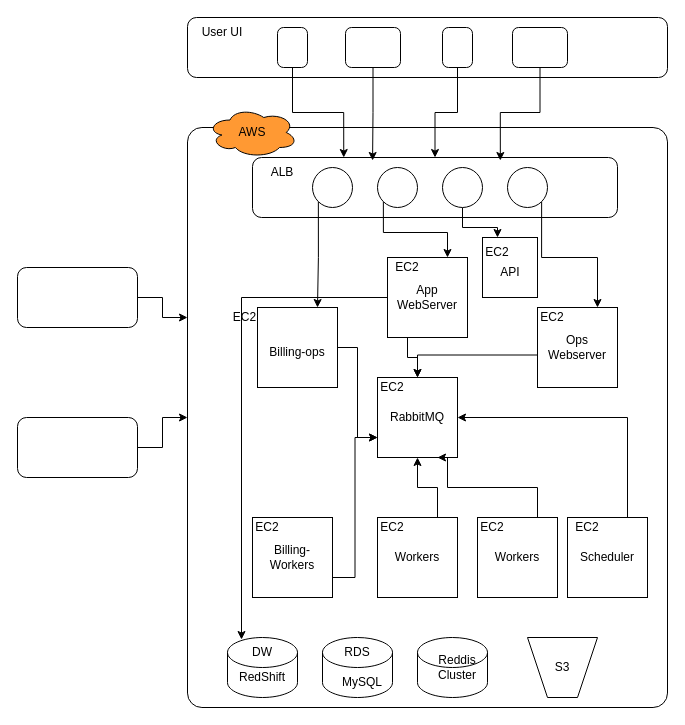
Some shapes in this 685 by 725 pixel diagram are drawn without their labels. Each missing label, with the box of its shape:
SalesForce: (16, 266, 138, 328)
Zoho: (16, 416, 138, 478)
